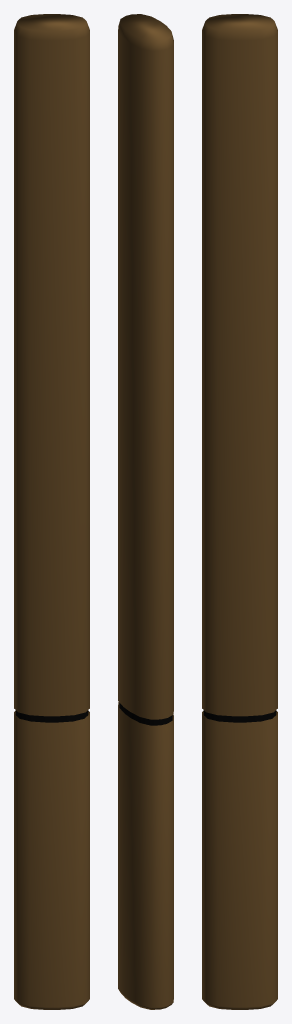
3 views of the same model, side by side, from view 1: azimuth 90°, elevation 25°; view 2: azimuth 210°, elevation 25°; view 3: azimuth 270°, elevation 25° (orthographic).
Visible parts, largest first — view 1: Cube.268; view 2: Cube.268; view 3: Cube.268.
Boxes of the visible parts, <box> form: Cube.268: <box>14,14,89,1009</box>; Cube.268: <box>118,14,173,1009</box>; Cube.268: <box>202,14,277,1009</box>.
Size of the model in its own units: 7.99 by 194 by 13.63.
